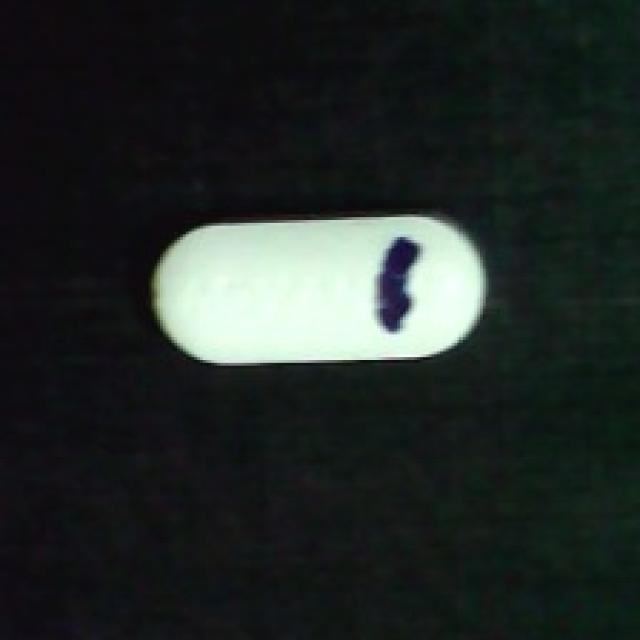defected: (149, 206, 494, 369)
